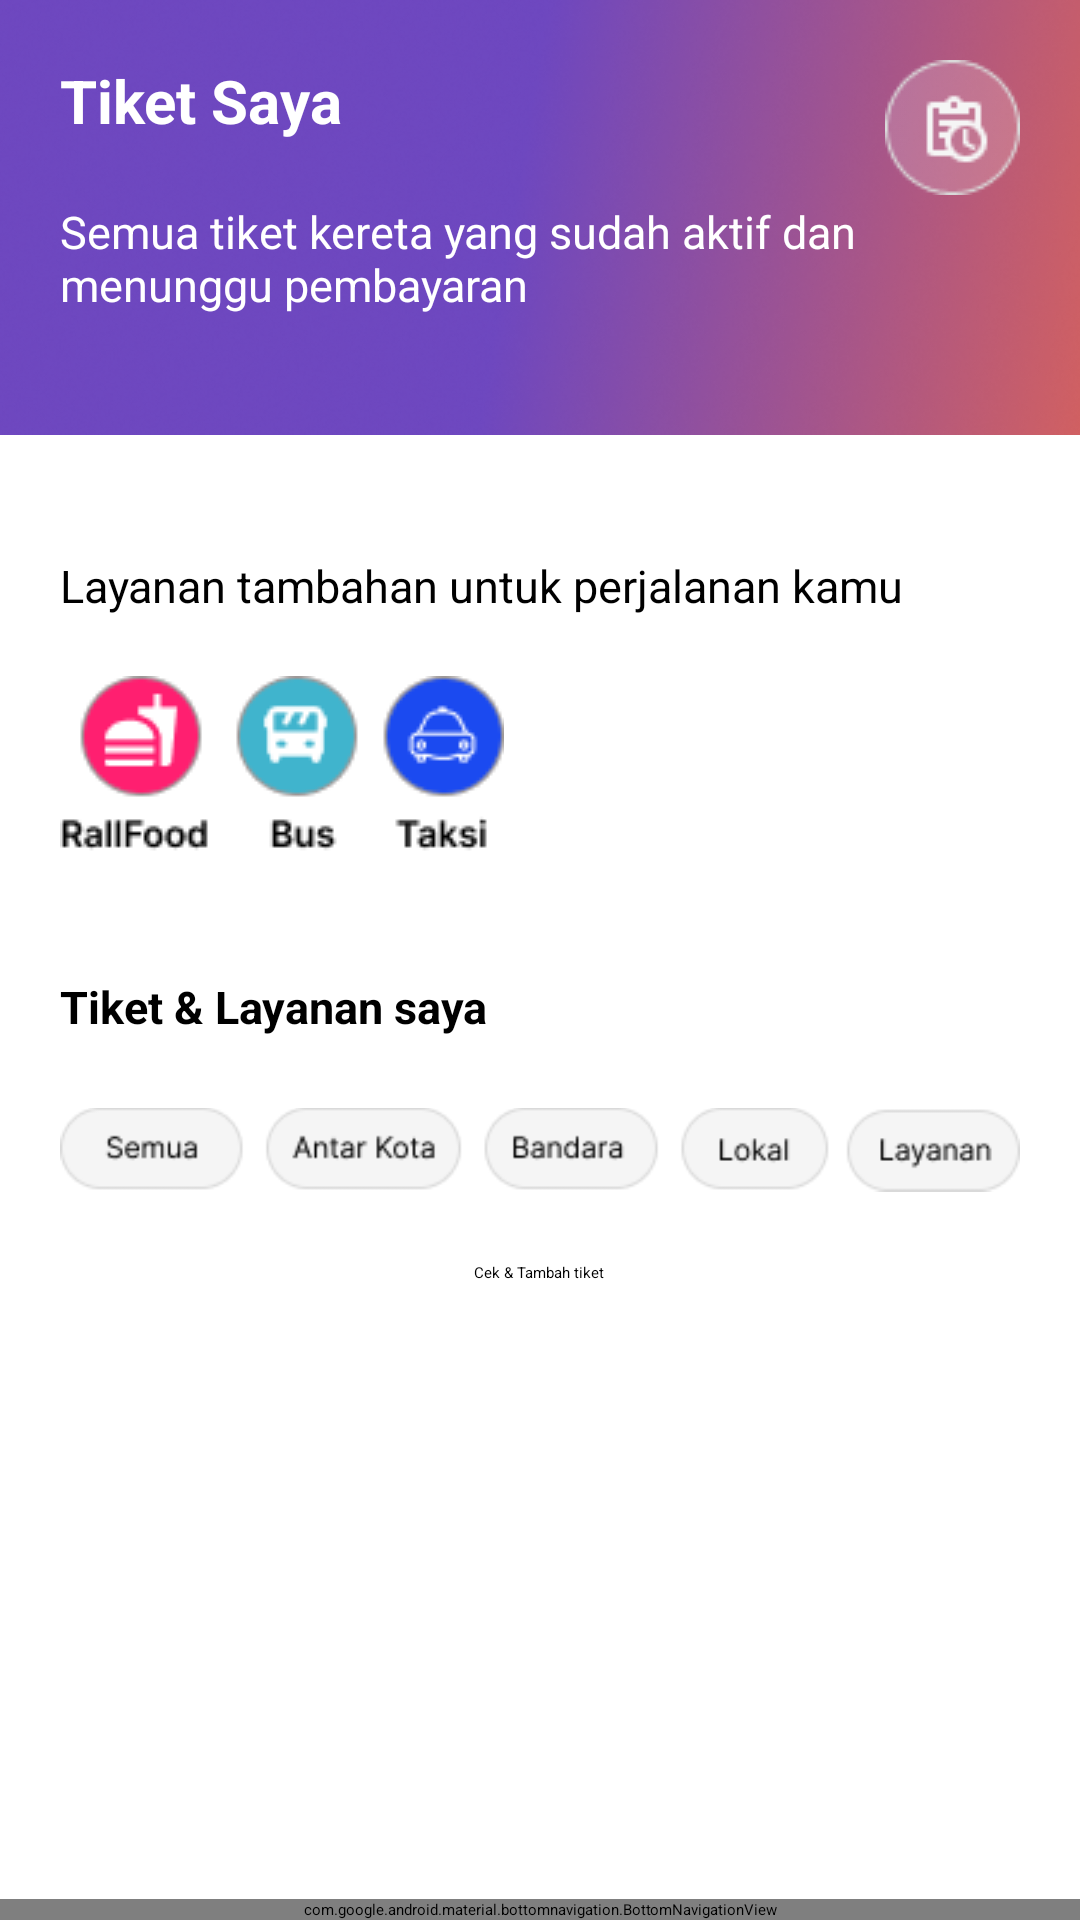

Locate icon controls on the screen. Image size 1080*1920, boxes as (x1, y1, x2, y2).
calender: (885, 60, 1020, 195)
